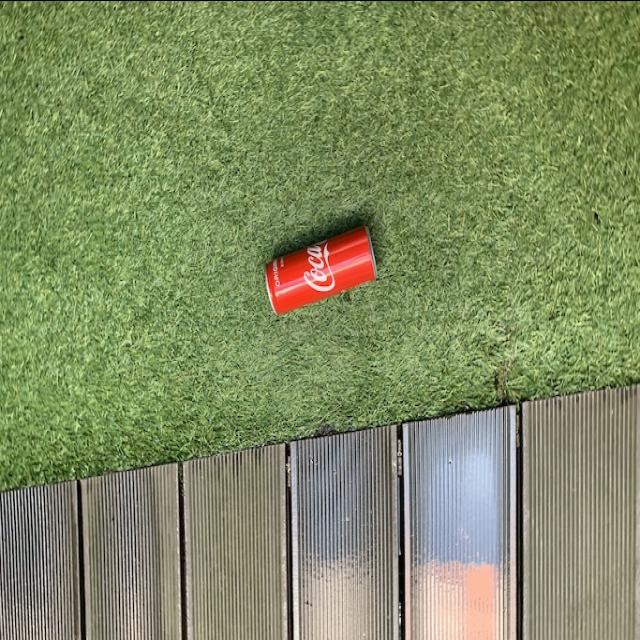litter: (260, 204, 384, 324)
